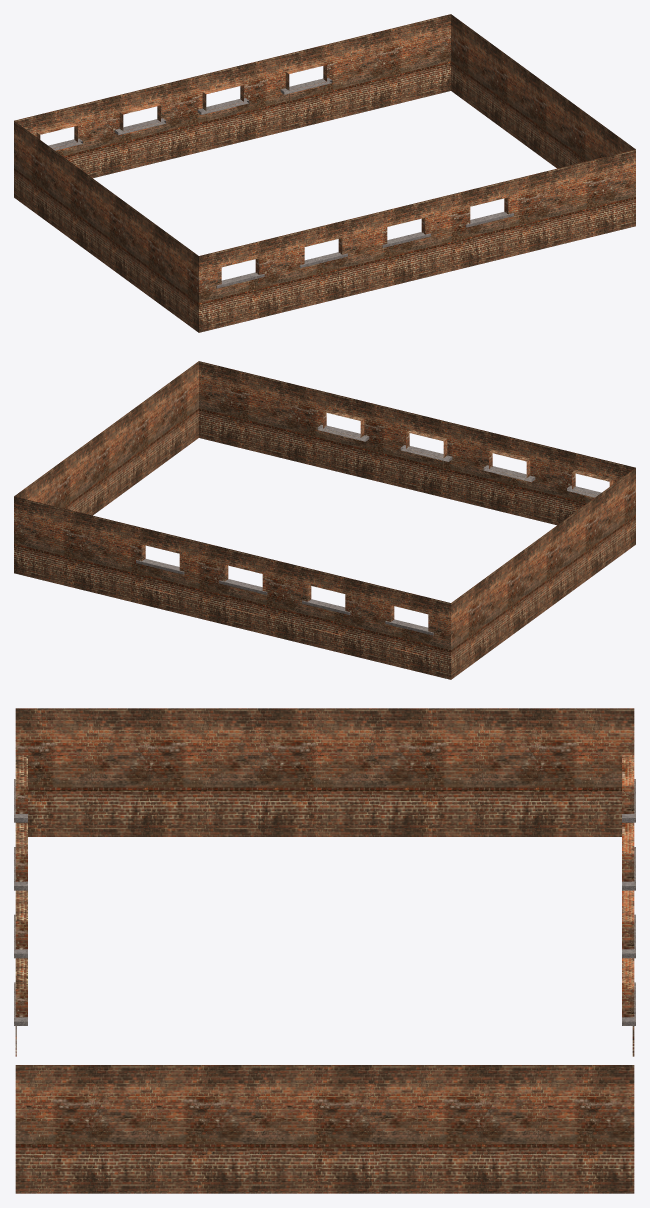
The model's file is BUILDING_caveFloor_01.FBX.
3 renders of one model, top to bottom at view 1: azimuth 30°, elevation 25°; view 2: azimuth 150°, elevation 25°; view 3: azimuth 270°, elevation 25°, orthographic. The views are drawn at different scales.
Visible parts, largest first — view 1: BUILDING_caveFloor_01; view 2: BUILDING_caveFloor_01; view 3: BUILDING_caveFloor_01.
Part boxes in pixels (bbox=[...]): BUILDING_caveFloor_01: bbox=[14, 14, 635, 332]; BUILDING_caveFloor_01: bbox=[14, 361, 635, 679]; BUILDING_caveFloor_01: bbox=[14, 708, 635, 1193].
Size of the model in its own units: 1916 by 322 by 1412.
Materials: 2 (2 with a texture image).
